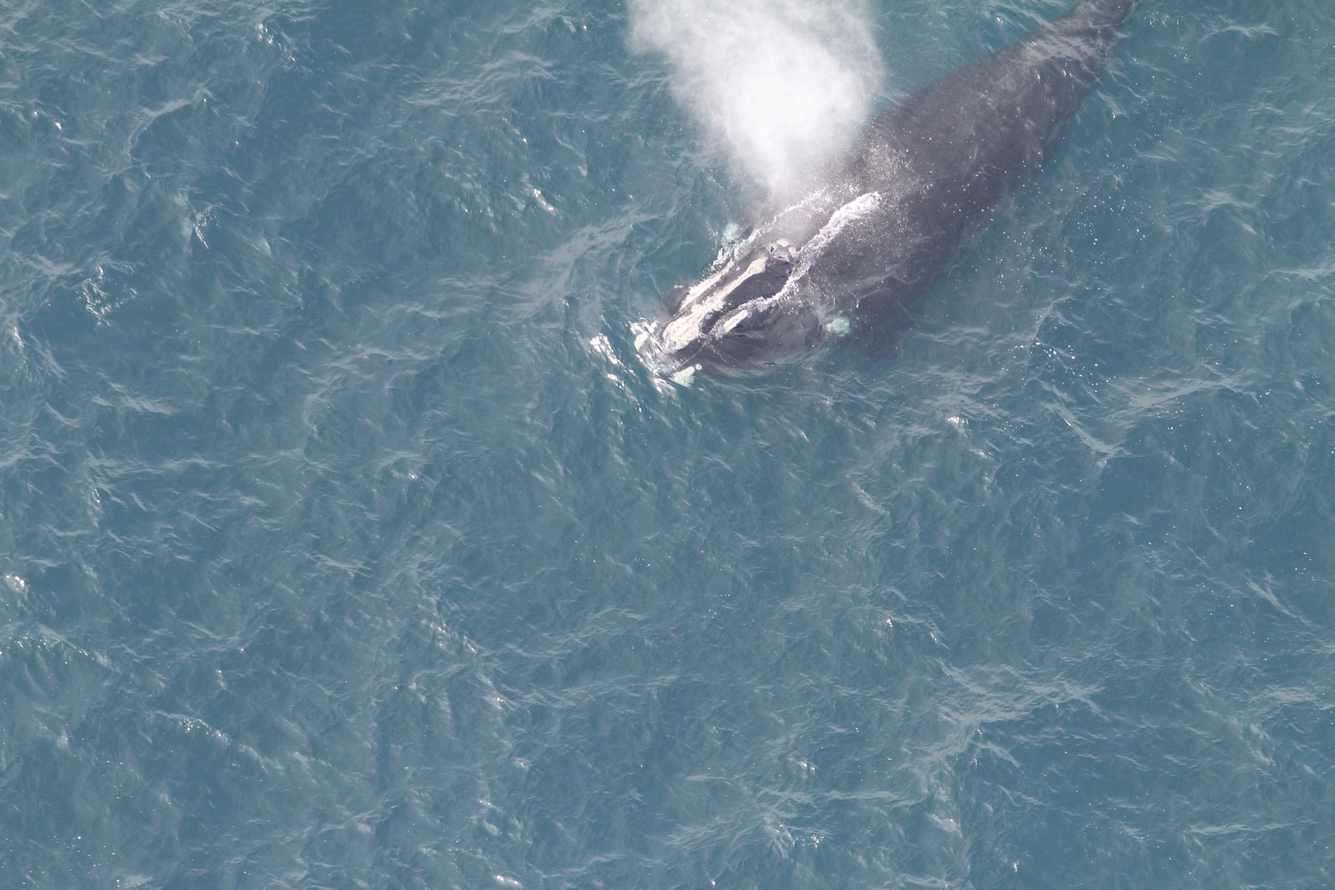whale: (619, 0, 1149, 404)
